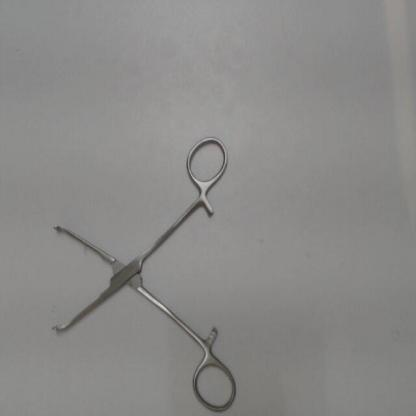Allis Tissue Forceps: (47, 131, 240, 413)
